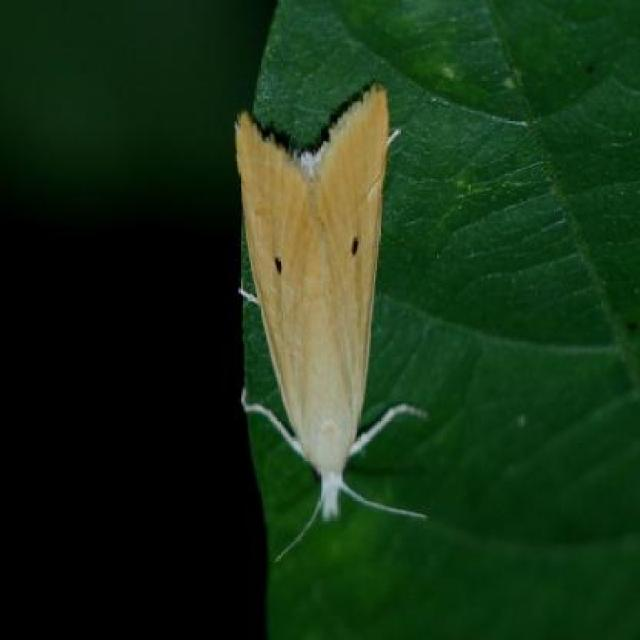stem-borer: (230, 77, 430, 563)
